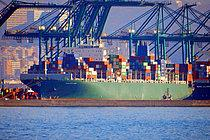Ship: (18, 40, 198, 105)
